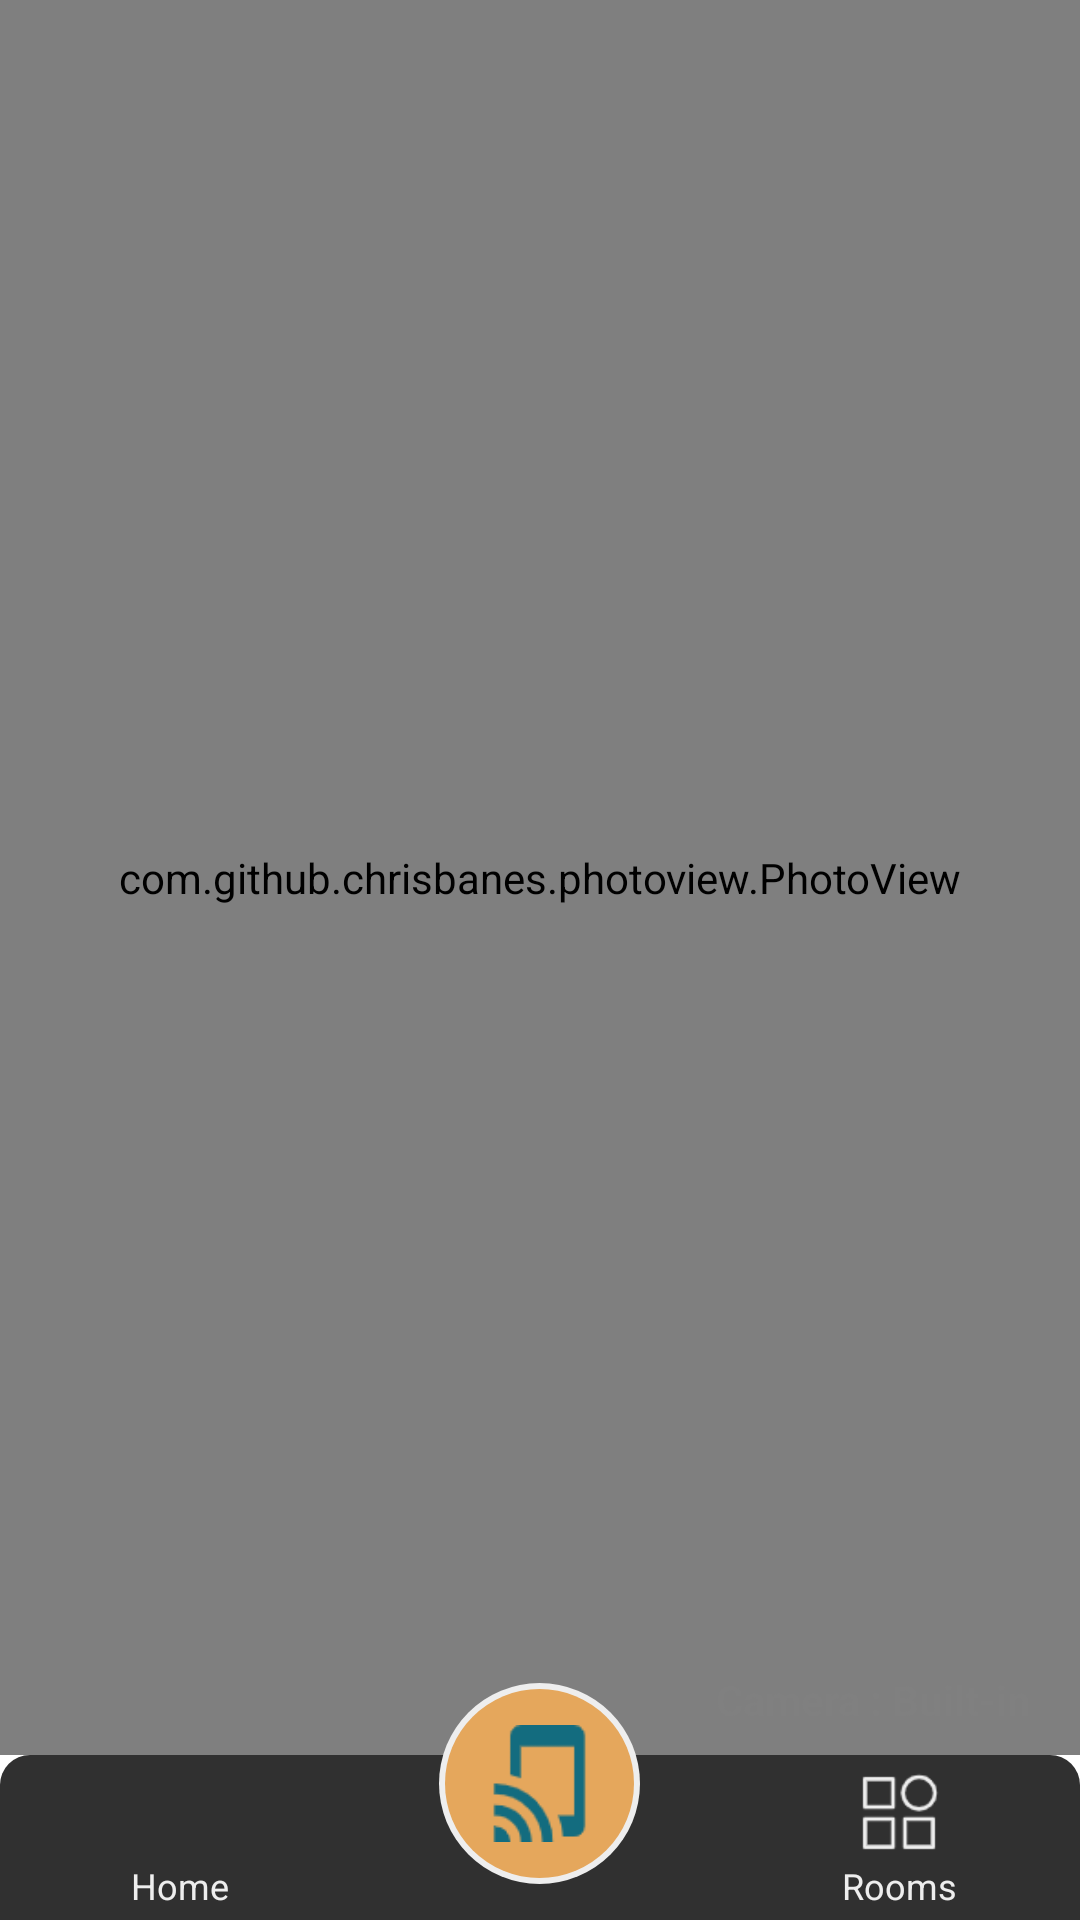

Icons on this 1080w x 1920h Android screen, each with the point to tap as (x,y):
connect: (539,1783)
